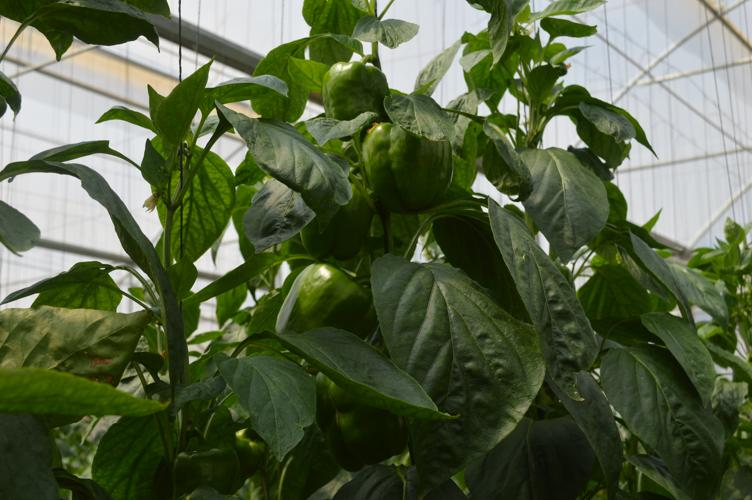BellPepper: (310, 375, 416, 460), (359, 126, 458, 216), (290, 181, 374, 260), (279, 263, 376, 331), (315, 60, 386, 119), (176, 451, 241, 490), (232, 431, 269, 469)
